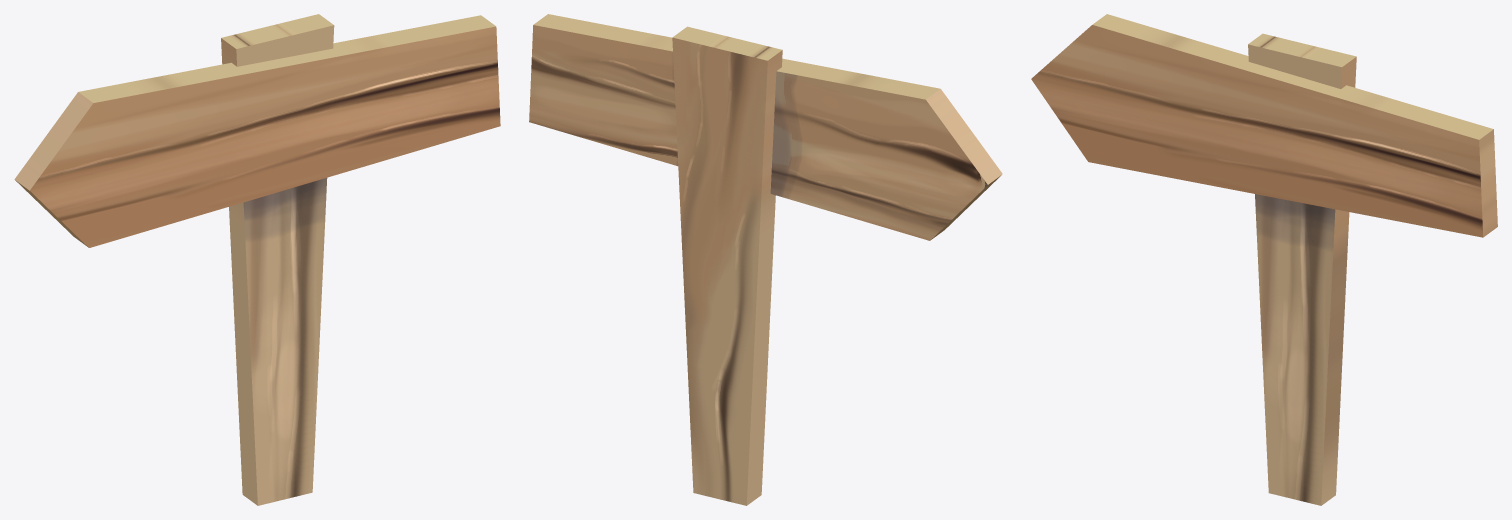
File: sign_direction_2.gltf
The picture shows the model from 3 angles, left to right: view 1: azimuth 30°, elevation 25°; view 2: azimuth 150°, elevation 25°; view 3: azimuth 330°, elevation 25°; orthographic projection. The views are drawn at different scales.
Visible parts, largest first — view 1: SignDirection2Mesh; view 2: SignDirection2Mesh; view 3: SignDirection2Mesh.
Part boxes in pixels (x1=…): SignDirection2Mesh: x1=14, y1=14, x2=500, y2=505; SignDirection2Mesh: x1=529, y1=14, x2=1002, y2=505; SignDirection2Mesh: x1=1031, y1=14, x2=1497, y2=505.
Size of what is drawn, in the model's own units: 1.13 by 1.06 by 0.1044.
Materials: 1 (1 with a texture image).
